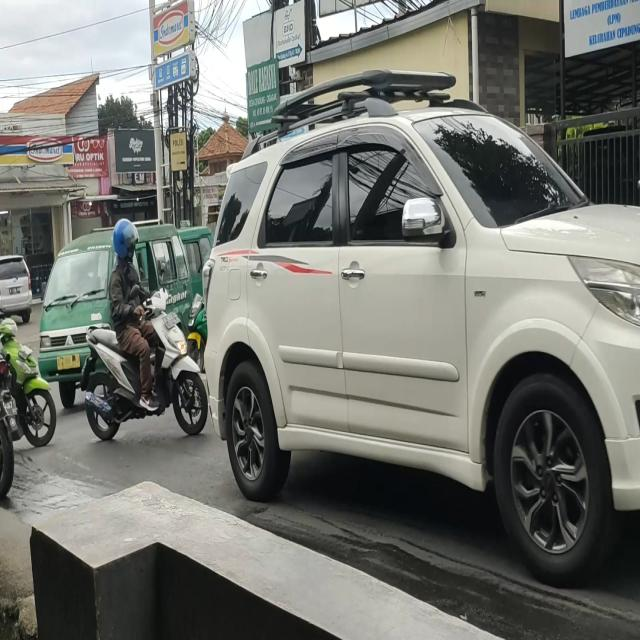helmet: (115, 216, 139, 261)
